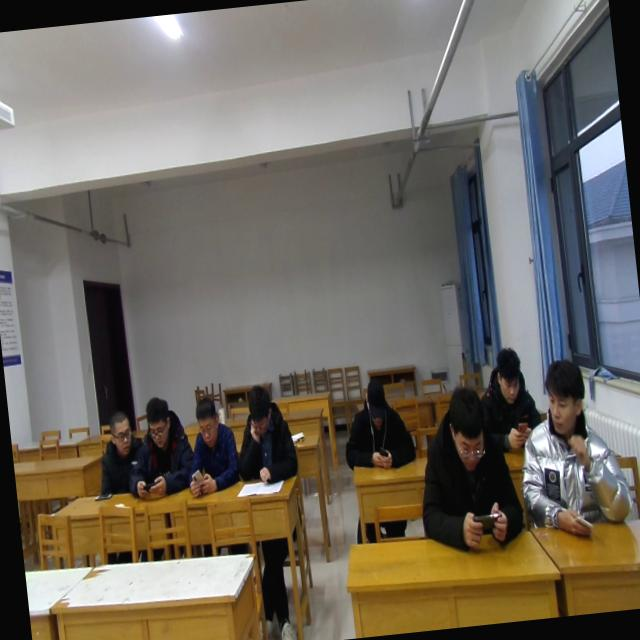down: (442, 379, 492, 475), (490, 341, 526, 406), (140, 388, 172, 452), (188, 390, 224, 446), (242, 382, 276, 439), (358, 370, 392, 426)
sit: (510, 354, 635, 542), (410, 380, 528, 558), (336, 373, 419, 474), (474, 342, 546, 458), (122, 391, 198, 500), (230, 380, 300, 488), (180, 394, 245, 496), (92, 406, 151, 496)
